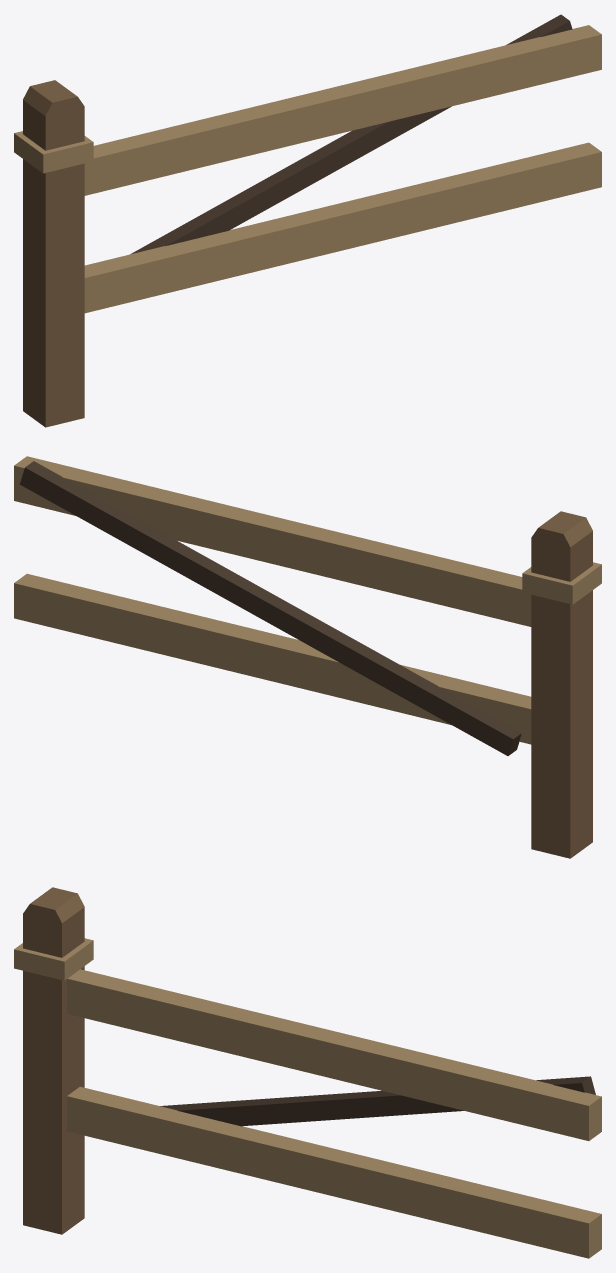
Rendered from TW_WOOD_RAIL_2M_B_LOD0.glb.
3 renders of one model, top to bottom at view 1: azimuth 30°, elevation 25°; view 2: azimuth 150°, elevation 25°; view 3: azimuth 330°, elevation 25°, orthographic.
Parts seen in each view (by area): view 1: TW_WOOD_RAIL_2M_B_LOD0; view 2: TW_WOOD_RAIL_2M_B_LOD0; view 3: TW_WOOD_RAIL_2M_B_LOD0.
Part boxes in pixels (x1,y1,x2,y2): TW_WOOD_RAIL_2M_B_LOD0: (14, 14, 601, 427); TW_WOOD_RAIL_2M_B_LOD0: (14, 456, 601, 858); TW_WOOD_RAIL_2M_B_LOD0: (14, 887, 601, 1258).
Bounding box in the file's own units: 2.02 × 1.1 × 0.1825.
1 material, 1 textured.
